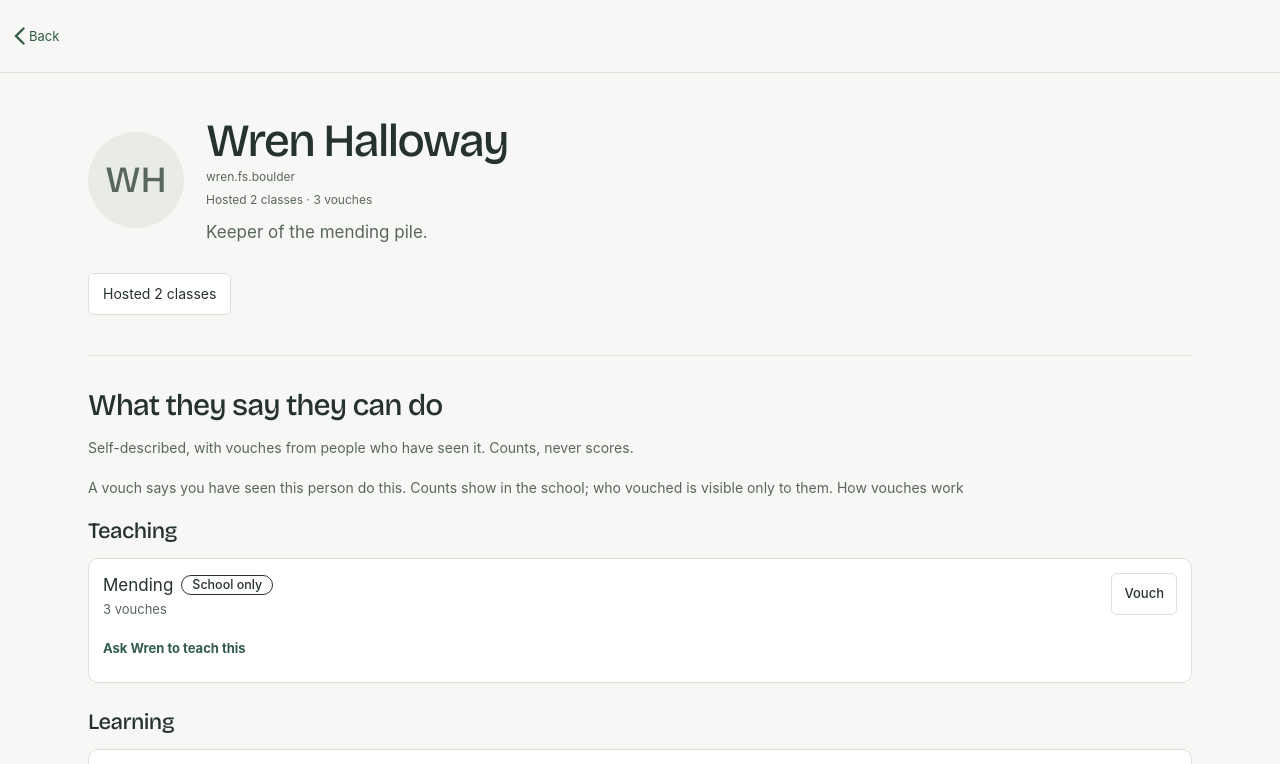
Scenario: MemberProfileScreen › vouches for one skill, sending the subject and the skill
Click the button "Vouch" in the row of "School only": click(1144, 594) [1112, 573, 1177, 615]
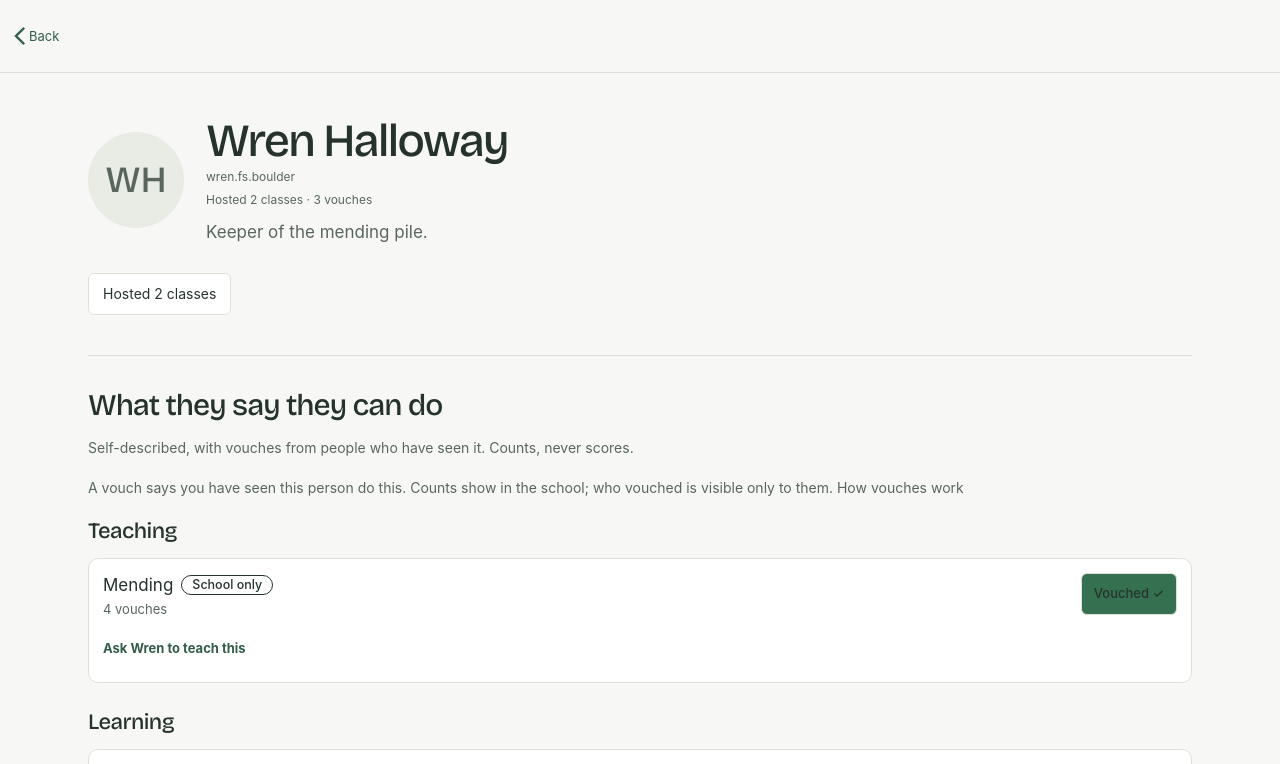
Expected: the button "Vouched ✓" is shown, [1081, 573, 1177, 615]
